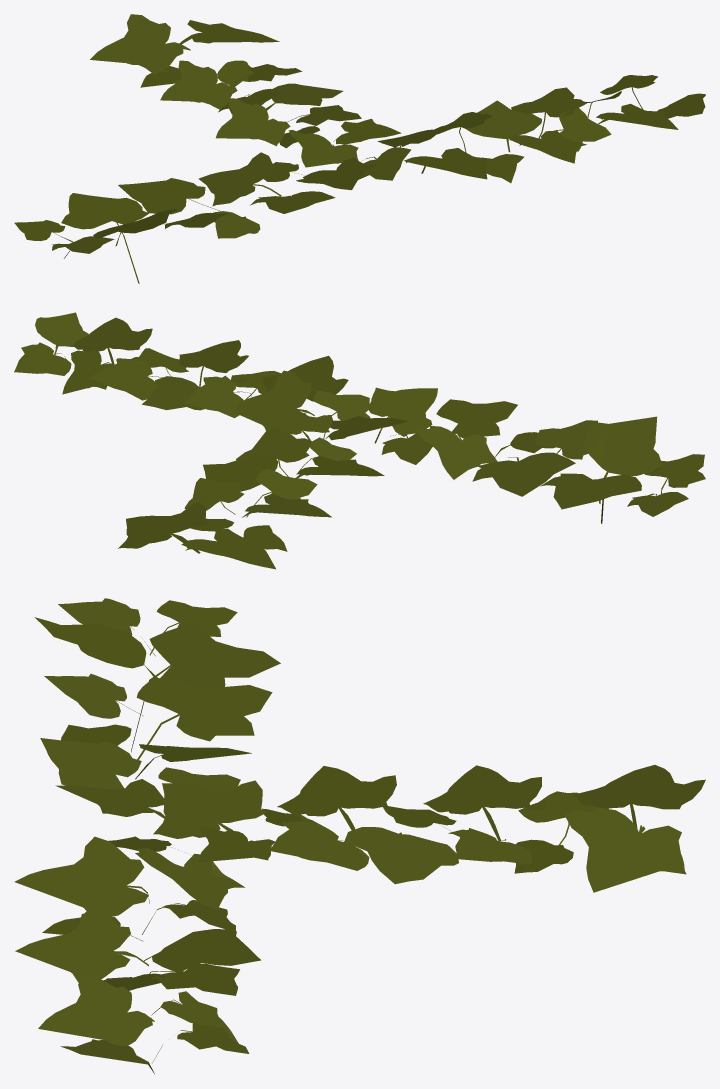
The model's file is lowPolyLeafsT.fbx.
3 views of the same model, one above another, from view 1: azimuth 30°, elevation 25°; view 2: azimuth 150°, elevation 25°; view 3: azimuth 270°, elevation 25° (orthographic). The views are drawn at different scales.
Parts seen in each view (by area): view 1: TivyLeafsLowPoly; view 2: TivyLeafsLowPoly; view 3: TivyLeafsLowPoly.
Boxes of the visible parts, x1,y1,x2,y2 form: TivyLeafsLowPoly: (14,14,705,283); TivyLeafsLowPoly: (14,312,705,569); TivyLeafsLowPoly: (14,598,705,1074).
Size of the model in its own units: 211 by 26.01 by 134.
